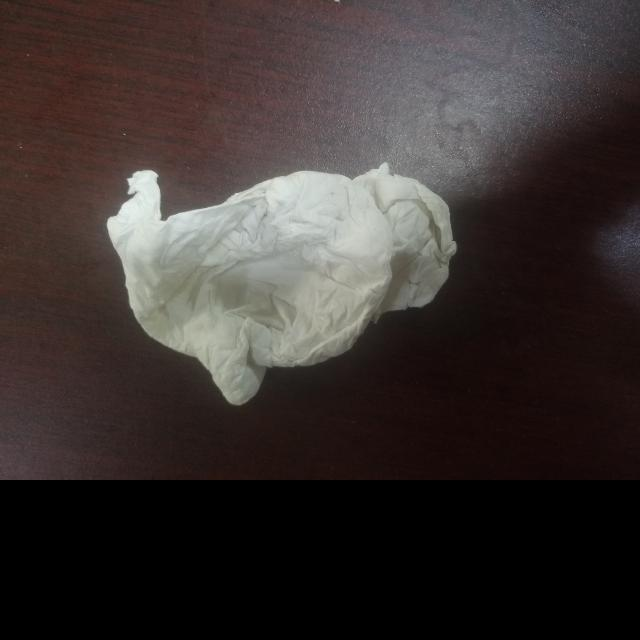kitchen paper: (82, 146, 476, 418)
